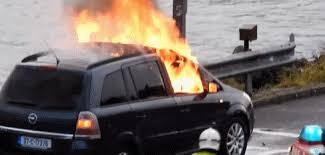fire: (72, 0, 213, 94)
